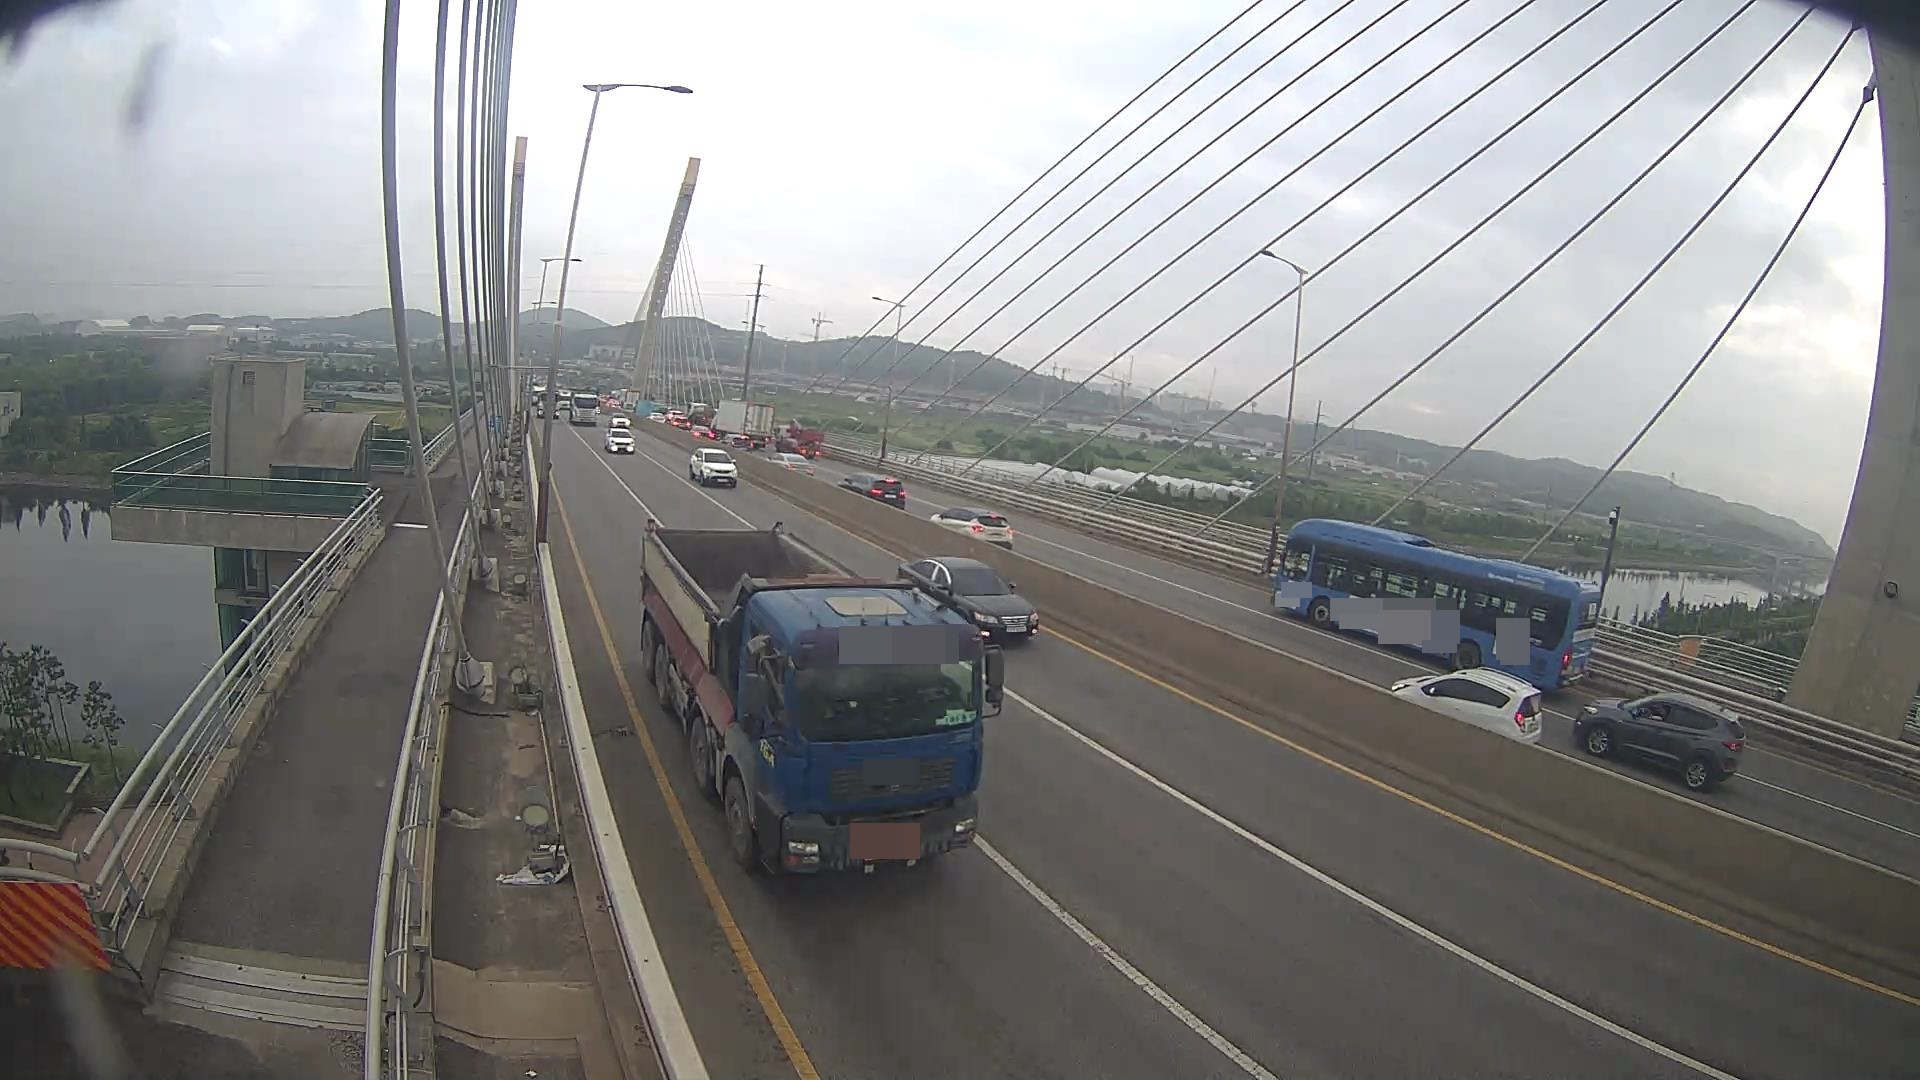정상차량: (640, 519, 1004, 876)
